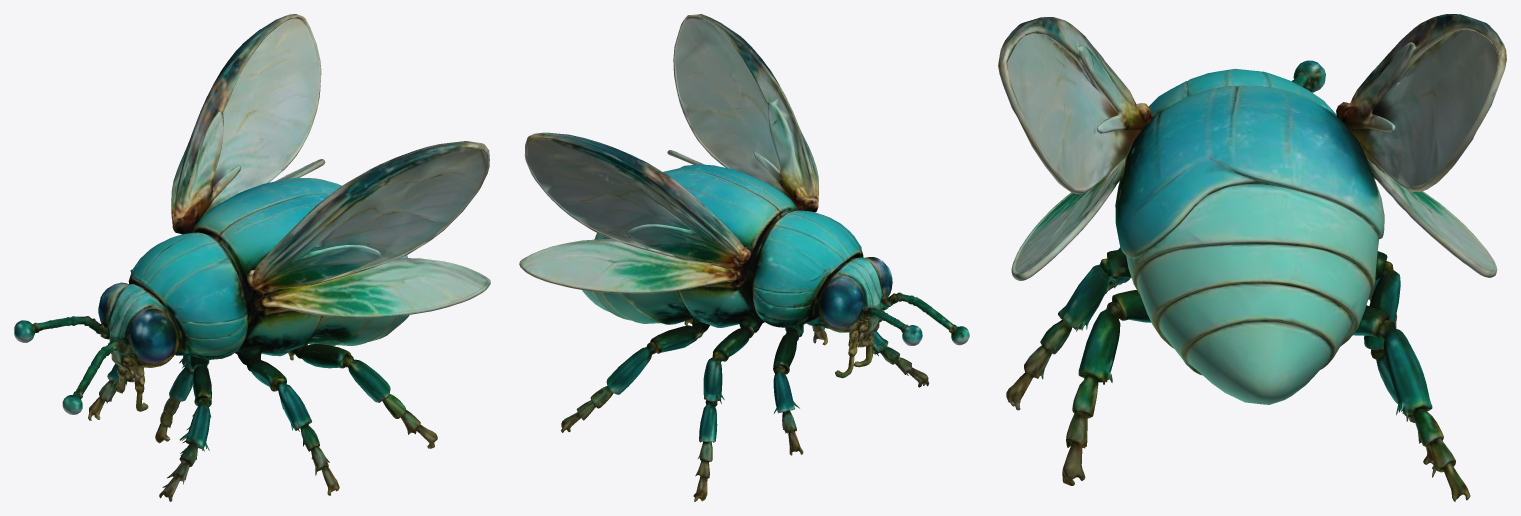
File: insect-cursor-BVvljToS.glb
3 views of the same model, side by side, from view 1: azimuth 30°, elevation 25°; view 2: azimuth 150°, elevation 25°; view 3: azimuth 270°, elevation 25° (orthographic). The views are drawn at different scales.
Parts seen in each view (by area): view 1: part_6, part_5, part_11, part_12, part_3, part_9, part_0, part_13, part_1, part_2, part_4, part_7; view 2: part_6, part_11, part_5, part_10, part_3, part_1, part_7, part_8, part_2, part_13, part_4; view 3: part_6, part_11, part_5, part_9, part_8, part_12, part_0, part_10, part_1, part_4.
Part boxes in pixels (x1,y1,x2,y2): part_6: [128, 177, 409, 369]; part_5: [246, 141, 489, 313]; part_11: [171, 14, 321, 234]; part_12: [265, 258, 490, 318]; part_3: [98, 282, 178, 411]; part_9: [294, 343, 437, 448]; part_0: [246, 358, 339, 495]; part_13: [159, 363, 211, 501]; part_1: [155, 354, 193, 443]; part_2: [62, 340, 127, 414]; part_4: [14, 316, 105, 342]; part_7: [88, 363, 127, 420]; part_6: [582, 164, 863, 337]; part_11: [524, 132, 753, 353]; part_5: [673, 14, 818, 212]; part_10: [519, 239, 732, 293]; part_3: [817, 257, 892, 378]; part_1: [693, 325, 754, 501]; part_7: [773, 331, 803, 455]; part_8: [561, 342, 657, 432]; part_2: [883, 292, 969, 345]; part_13: [818, 321, 929, 387]; part_4: [862, 307, 922, 345]; part_6: [1115, 68, 1384, 404]; part_11: [1336, 14, 1506, 337]; part_5: [998, 17, 1152, 194]; part_9: [1062, 290, 1151, 485]; part_8: [1378, 320, 1470, 501]; part_12: [1011, 158, 1126, 280]; part_0: [1006, 249, 1131, 410]; part_10: [1367, 159, 1497, 277]; part_1: [1364, 251, 1436, 470]; part_4: [1291, 60, 1325, 92].
Size of the model in its own units: 80.49 by 75.28 by 65.28.
1 material, 1 textured.
